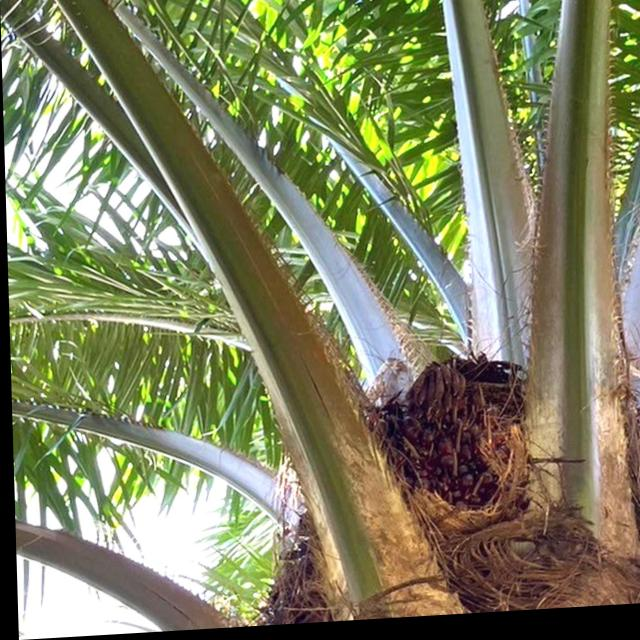ripe: (373, 371, 506, 525)
